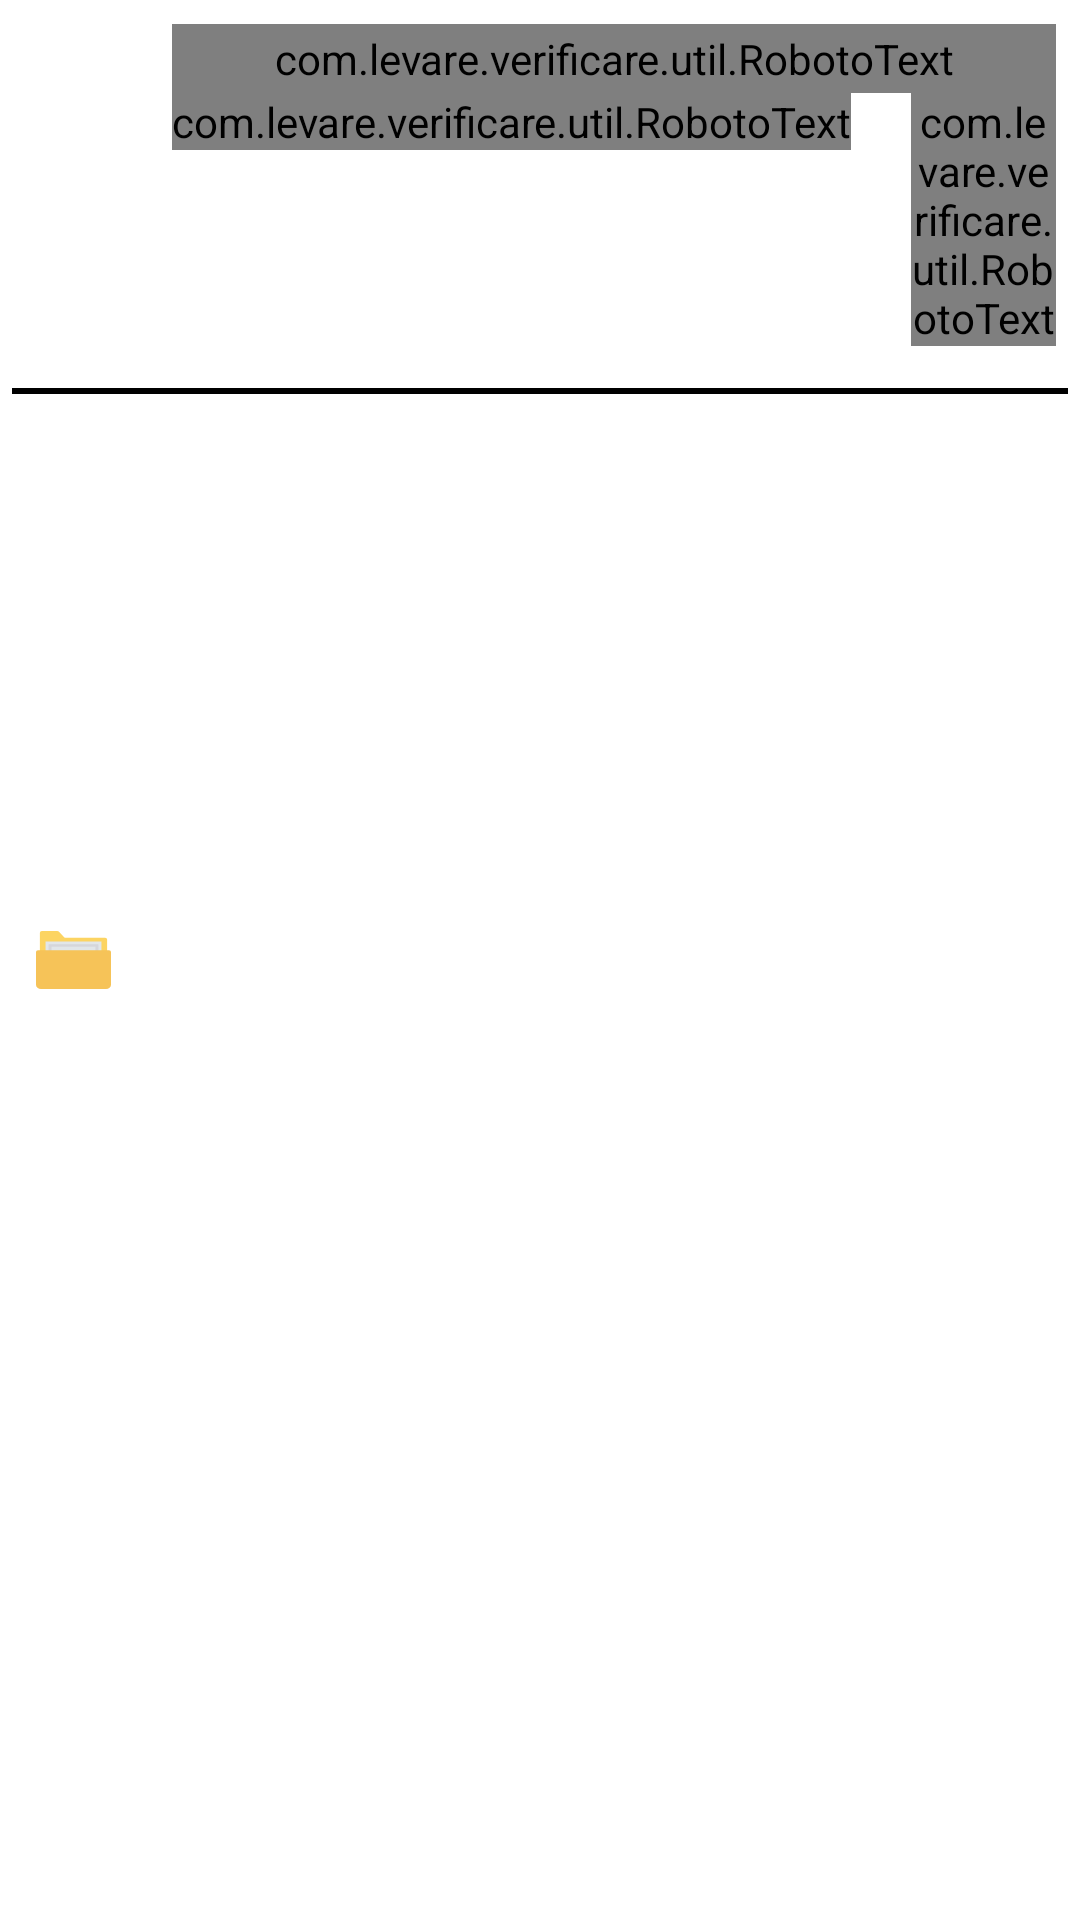

Point at icon controls on the screen. Image size 1080px×1920px, points as (x=x, y=y).
folder: (x=73, y=960)
